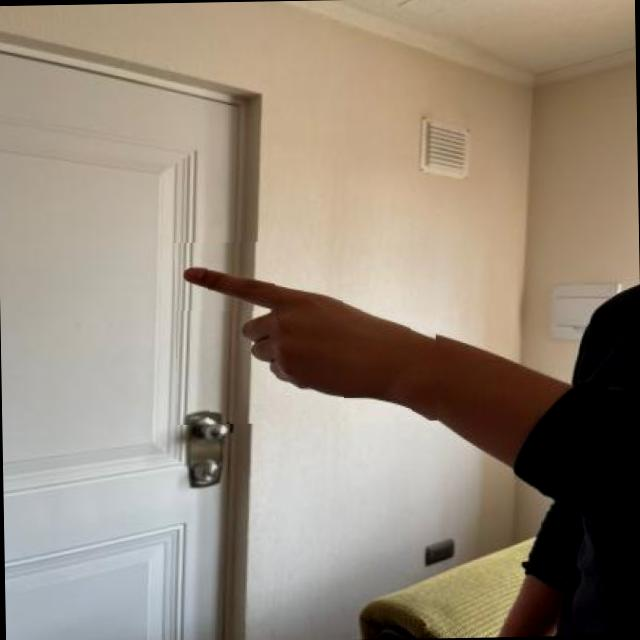Q: (174, 238, 439, 424)
